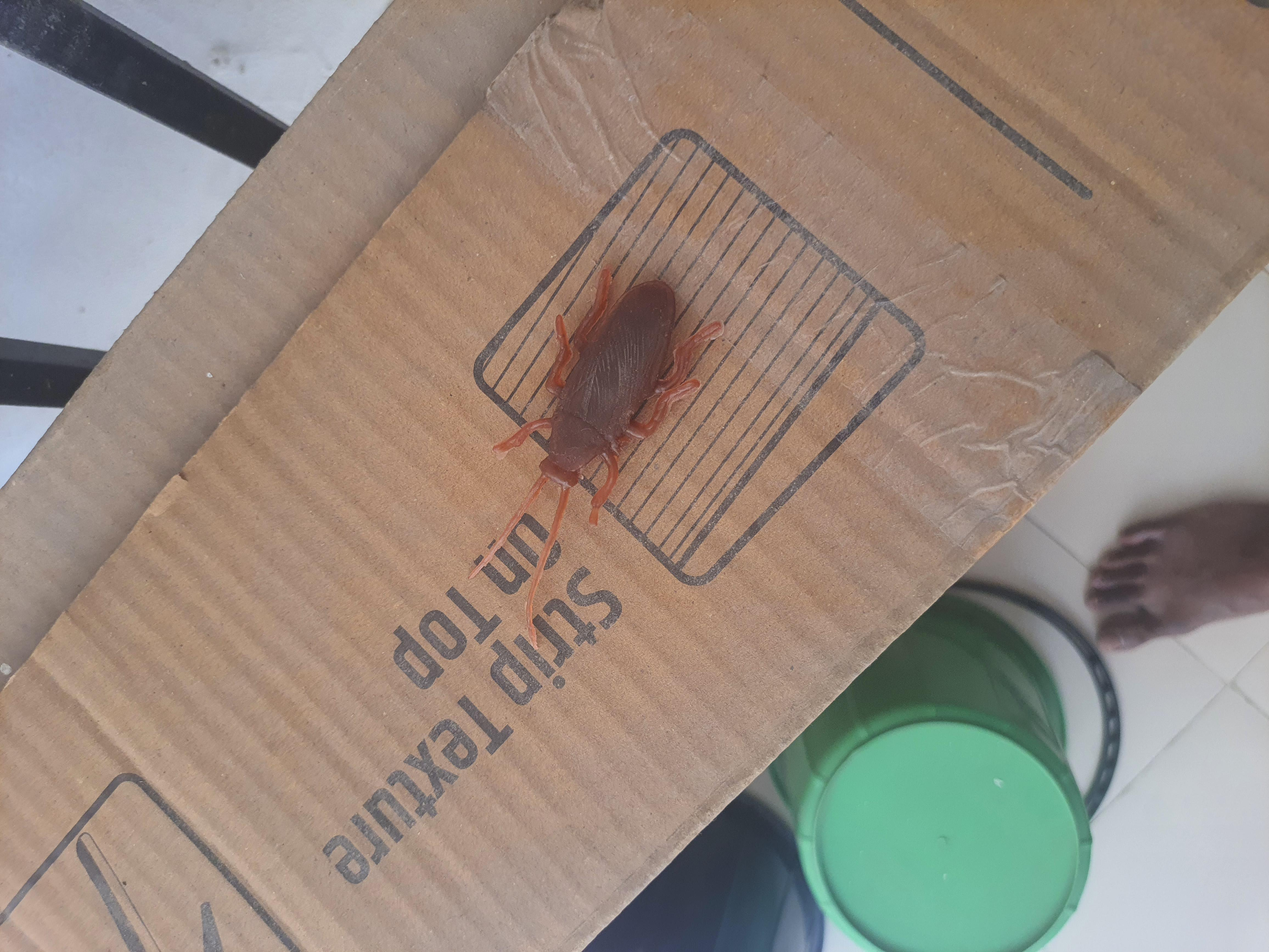cockroach: (451, 342, 918, 530)
